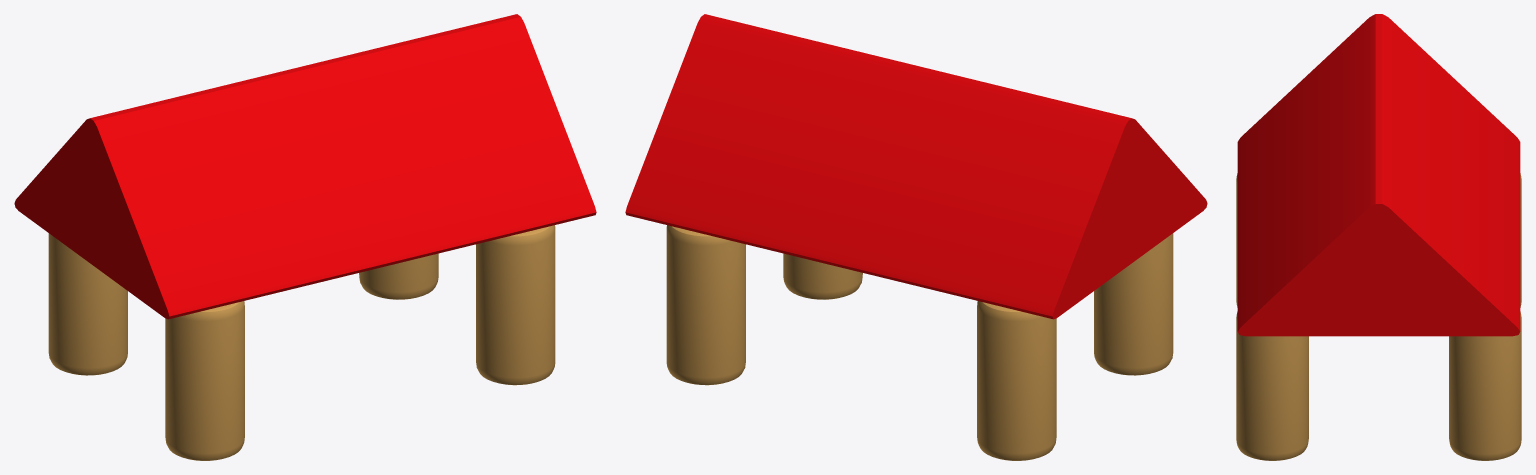
Rendered from casita.fbx.
3 views of the same model, side by side, from view 1: azimuth 30°, elevation 25°; view 2: azimuth 150°, elevation 25°; view 3: azimuth 270°, elevation 25° (orthographic). The views are drawn at different scales.
Parts seen in each view (by area): view 1: Casitia; view 2: Casitia; view 3: Casitia.
Boxes of the visible parts, x1,y1,x2,y2 form: Casitia: (14,14,596,460); Casitia: (625,14,1207,460); Casitia: (1236,14,1521,460).
Size of the model in its own units: 4684 by 3115 by 2974.
